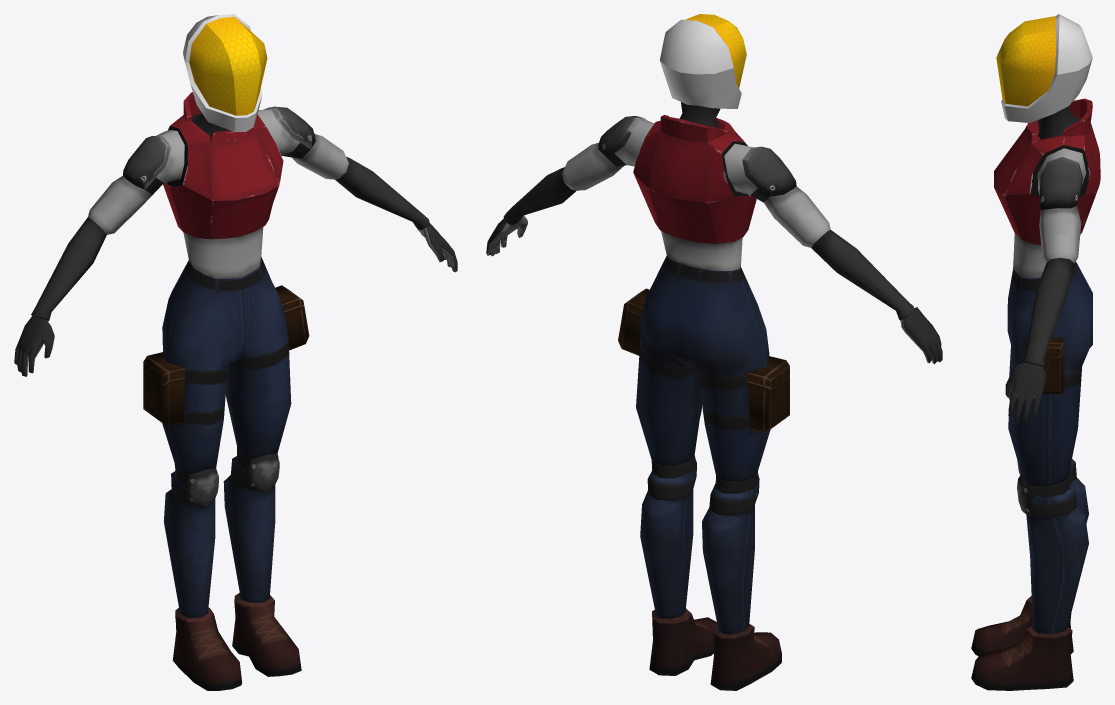
File: sci-fi_female_soldier_lowpoly.glb
3 renders of one model, left to right at view 1: azimuth 30°, elevation 25°; view 2: azimuth 150°, elevation 25°; view 3: azimuth 270°, elevation 25°, orthographic. The views are drawn at different scales.
Visible parts, largest first — view 1: Object_2; view 2: Object_2; view 3: Object_2.
Part boxes in pixels (x1,y1,x2,y2): Object_2: [14, 14, 457, 690]; Object_2: [486, 14, 942, 690]; Object_2: [971, 14, 1100, 690].
Size of the model in its own units: 3.87 by 5.42 by 0.9824.
Materials: 1 (1 with a texture image).
